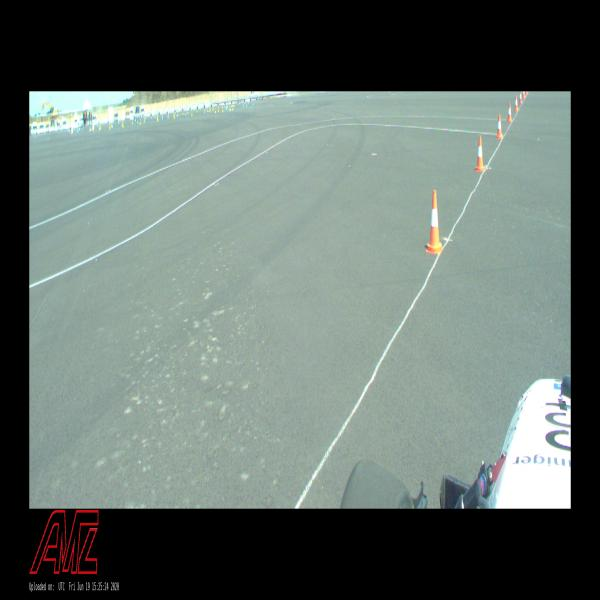blue_cone: (137, 119, 139, 126), (242, 102, 244, 109), (252, 102, 254, 108), (185, 112, 187, 118), (176, 113, 178, 118), (154, 115, 156, 120), (91, 126, 92, 132), (246, 104, 247, 109), (204, 110, 205, 115), (162, 116, 163, 121)
orange_cone: (426, 190, 443, 253), (475, 136, 485, 171), (496, 115, 502, 139), (507, 103, 512, 122), (514, 95, 518, 111), (520, 91, 522, 104), (522, 91, 525, 97)
yellow_cone: (222, 106, 224, 112), (229, 105, 231, 110), (122, 122, 124, 127), (109, 124, 111, 129), (157, 116, 159, 121), (191, 111, 193, 115), (140, 118, 141, 125), (218, 106, 219, 112), (232, 105, 233, 110), (132, 119, 133, 124), (90, 125, 90, 131)
